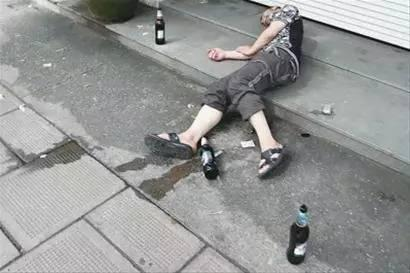Fall-Detected: (133, 0, 314, 186)
